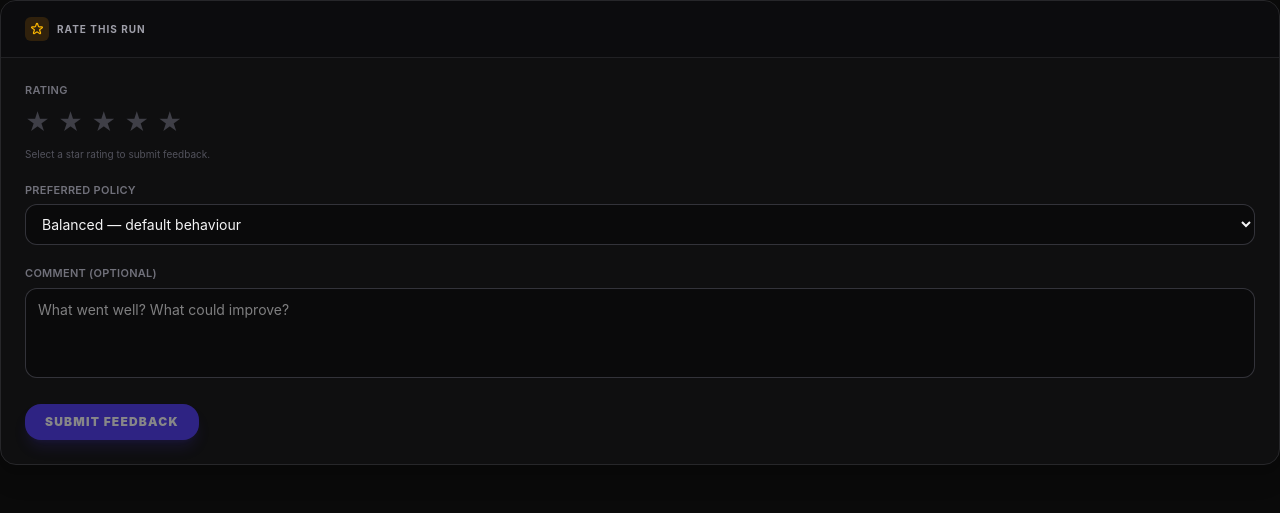
Test: RunFeedbackPanel submit behavior › keeps form visible and shows inline error on failed submit
Click the 4th button "★": (137, 122) [124, 106, 149, 138]
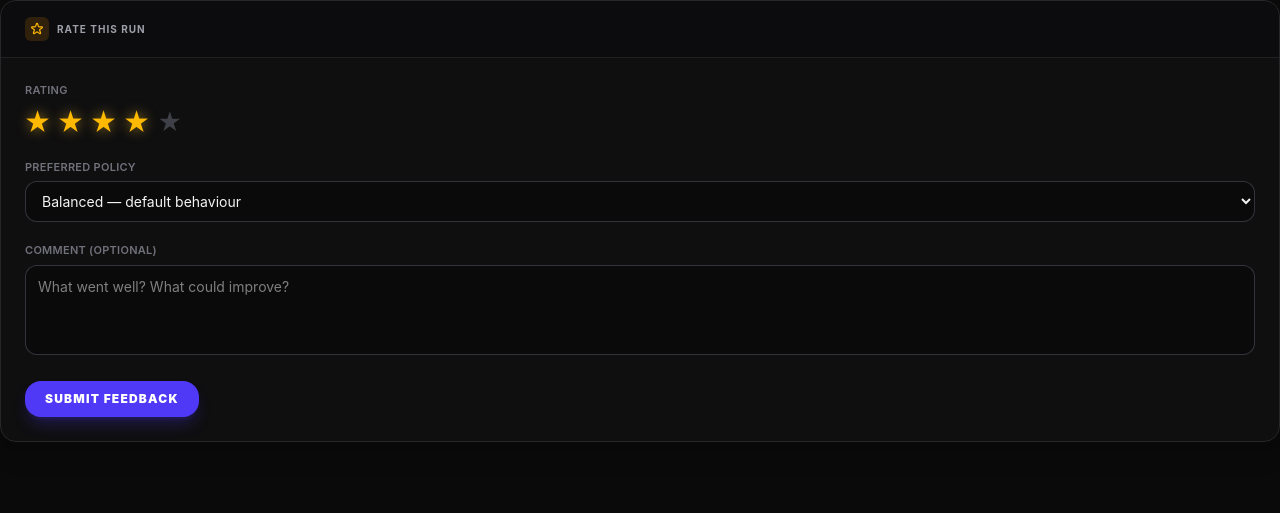
Click the button "Submit Feedback": (112, 399) [25, 381, 199, 417]
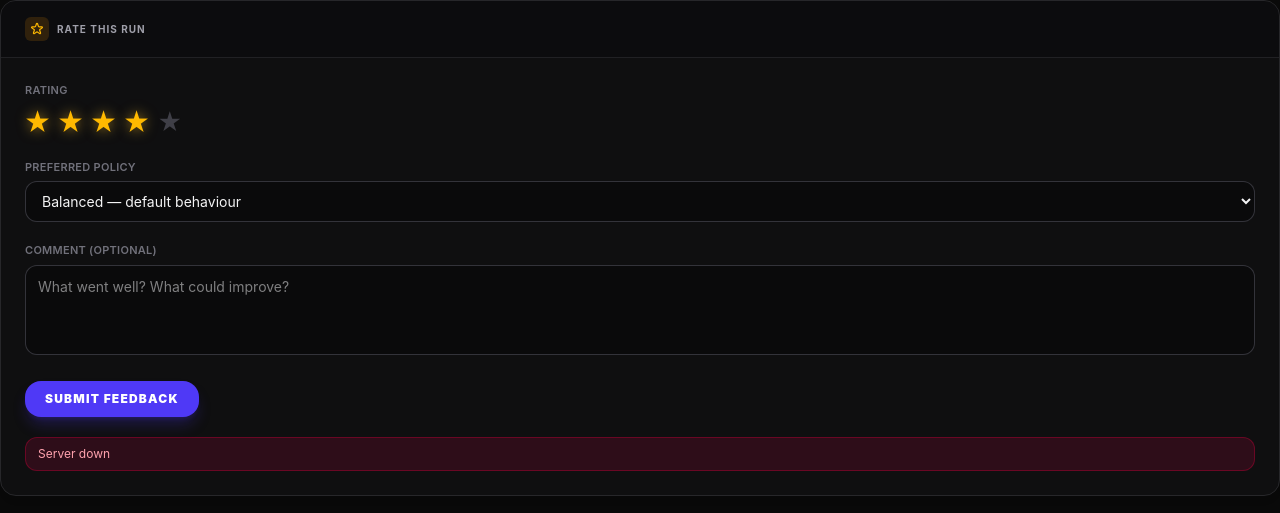
Expected: the text "Server down" is shown, [25, 437, 1255, 471]
